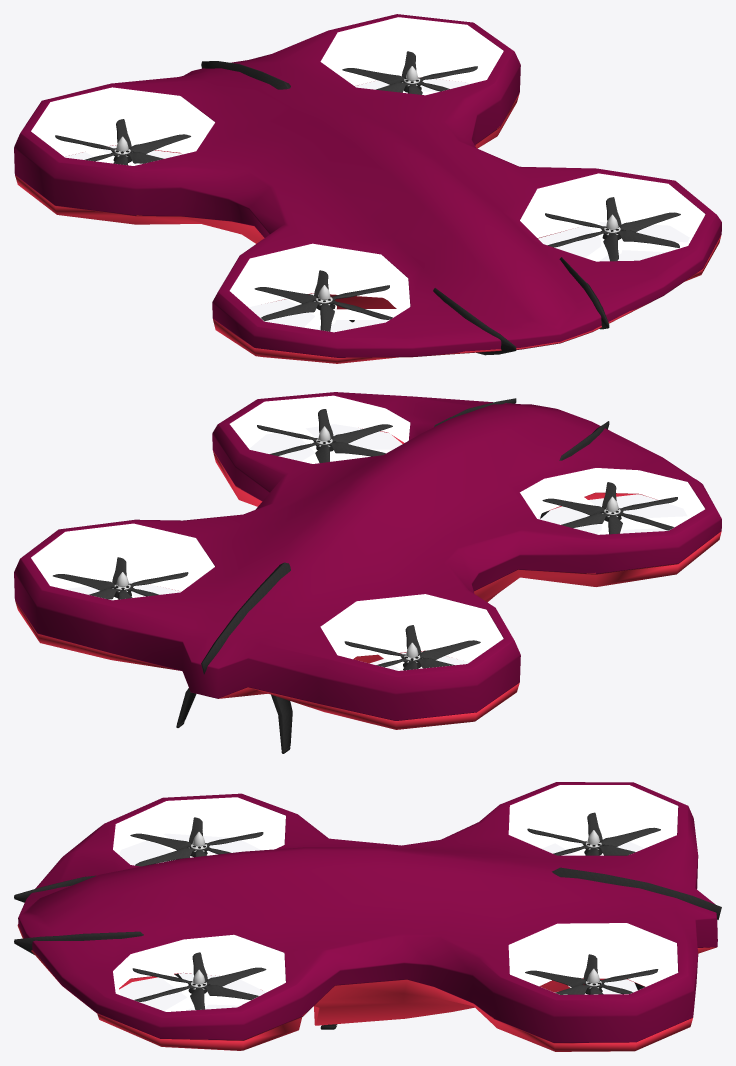
Rendered from drone.glb.
The picture shows the model from 3 angles, top to bottom: view 1: azimuth 30°, elevation 25°; view 2: azimuth 150°, elevation 25°; view 3: azimuth 270°, elevation 25°; orthographic projection.
Visible parts, largest first — view 1: Drone Body_Top Metal, Drone Body_Rotor Encasing Plastic, Drone Body_Bottom Plastic, Rotor_CCW_01, Rotor_CW_01, Drone Parts_Fins and Stands, Rotor_CCW_02, Rotor_CW_02, Rotor_CCW_01 Mount, Rotor_CW_01 Mount; view 2: Drone Body_Top Metal, Drone Body_Rotor Encasing Plastic, Drone Body_Bottom Plastic, Drone Parts_Fins and Stands, Rotor_CW_01, Rotor_CCW_01, Rotor_CCW_02, Rotor_CW_02, Rotor_CW_01 Mount, Rotor_CCW_01 Mount; view 3: Drone Body_Top Metal, Drone Body_Rotor Encasing Plastic, Drone Body_Bottom Plastic, Drone Parts_Fins and Stands, Rotor_CCW_01, Rotor_CW_01, Rotor_CCW_02, Rotor_CW_02, Rotor_CCW_01 Mount.
Boxes of the visible parts, x1,y1,x2,y2 form: Drone Body_Top Metal: [14, 14, 721, 357]; Drone Body_Rotor Encasing Plastic: [31, 17, 705, 331]; Drone Body_Bottom Plastic: [15, 79, 721, 363]; Rotor_CCW_01: [545, 197, 680, 261]; Rotor_CW_01: [254, 270, 392, 331]; Drone Parts_Fins and Stands: [201, 61, 609, 355]; Rotor_CCW_02: [55, 119, 190, 165]; Rotor_CW_02: [342, 51, 477, 94]; Rotor_CCW_01 Mount: [576, 207, 687, 261]; Rotor_CW_01 Mount: [272, 281, 405, 329]; Drone Body_Top Metal: [14, 392, 721, 720]; Drone Body_Rotor Encasing Plastic: [31, 395, 704, 670]; Drone Body_Bottom Plastic: [15, 428, 721, 729]; Drone Parts_Fins and Stands: [176, 398, 609, 753]; Rotor_CW_01: [542, 482, 677, 534]; Rotor_CCW_01: [257, 409, 392, 462]; Rotor_CCW_02: [344, 625, 480, 670]; Rotor_CW_02: [53, 557, 188, 599]; Rotor_CW_01 Mount: [570, 491, 691, 534]; Rotor_CCW_01 Mount: [290, 419, 392, 463]; Drone Body_Top Metal: [18, 782, 717, 1042]; Drone Body_Rotor Encasing Plastic: [113, 785, 678, 1011]; Drone Body_Bottom Plastic: [17, 924, 716, 1051]; Drone Parts_Fins and Stands: [14, 867, 721, 1029]; Rotor_CCW_01: [132, 952, 266, 1009]; Rotor_CW_01: [130, 817, 263, 866]; Rotor_CCW_02: [527, 812, 660, 855]; Rotor_CW_02: [525, 954, 658, 994]; Rotor_CCW_01 Mount: [155, 964, 250, 1011].
Bounding box in the file's own units: 1.35 × 0.4436 × 1.81.
13 materials, 2 textured.
